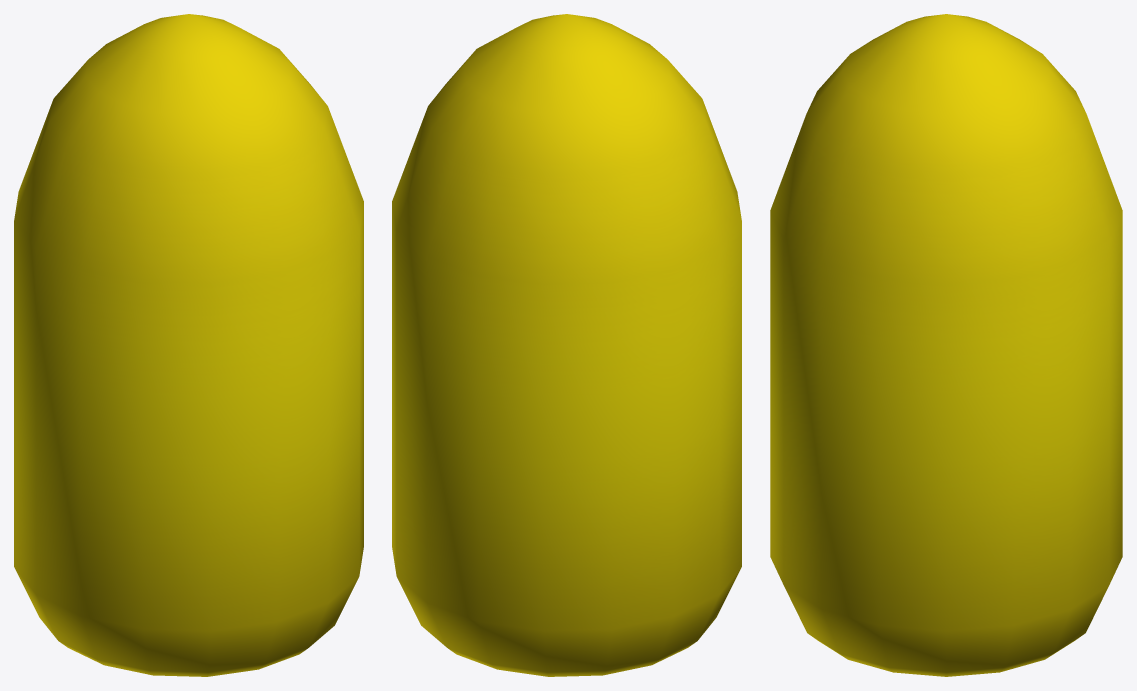
File: gruby.fbx
3 views of the same model, side by side, from view 1: azimuth 30°, elevation 25°; view 2: azimuth 150°, elevation 25°; view 3: azimuth 270°, elevation 25° (orthographic).
Visible parts, largest first — view 1: gruby; view 2: gruby; view 3: gruby.
Part boxes in pixels (left/top/right/bottom): gruby: left=14, top=14, right=363, bottom=676; gruby: left=392, top=14, right=741, bottom=676; gruby: left=770, top=14, right=1122, bottom=676.
Bounding box in the file's own units: 38.74 × 73.25 × 38.74.
Materials: 1 (1 with a texture image).
